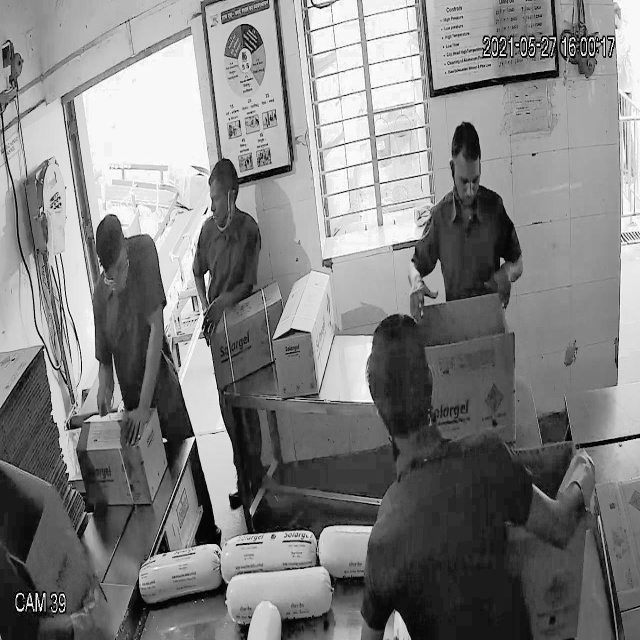Sin_gafas: (450, 164, 485, 195)
